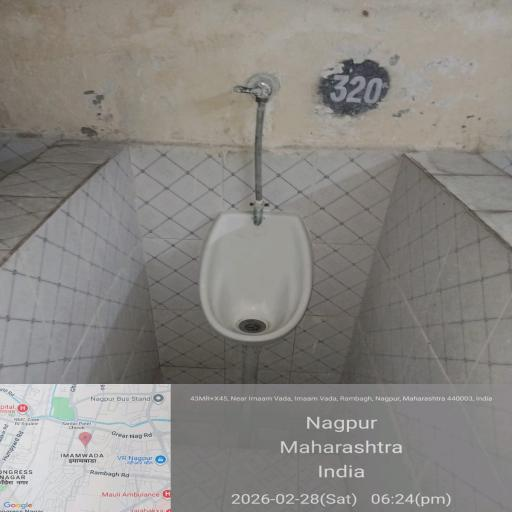clean_urinal: (192, 203, 325, 361)
partial_dirty_floor: (28, 49, 512, 176)
